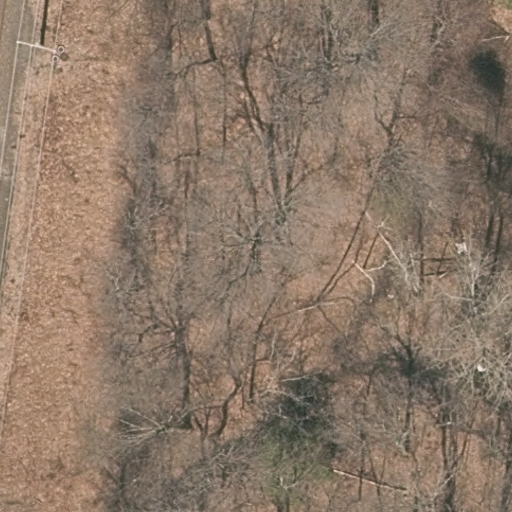DT: (17, 36, 61, 60)
